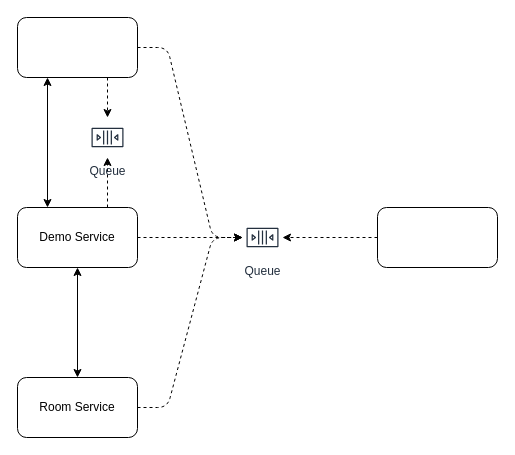
This 515x455 diagram has some shape labels left out. Here are the shapes that lost their labels. From the top down, the centre of each, then its label:
At (77,47): "User Service".
At (437,237): "Notification Service".
